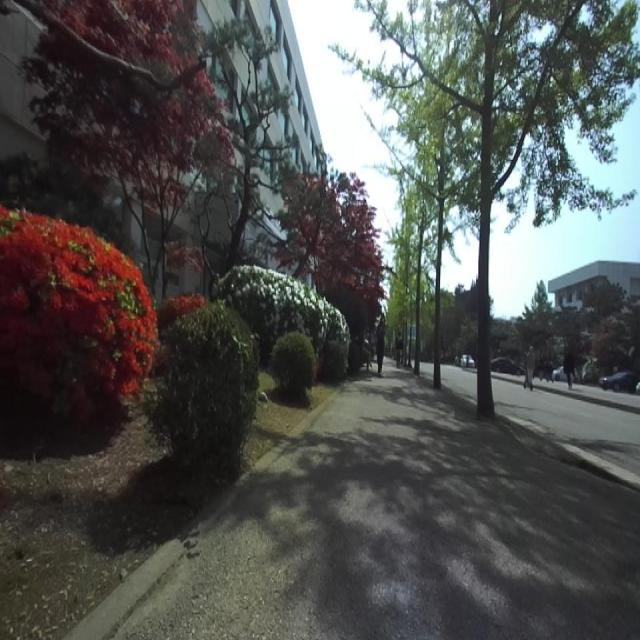sidewalk: (120, 374, 640, 639)
